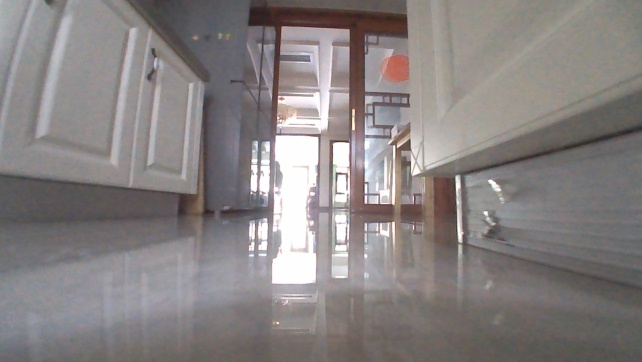cupboard: (0, 0, 213, 224)
cupboard1: (401, 0, 641, 291)
